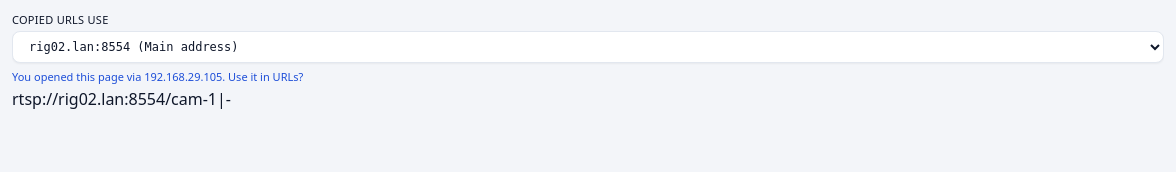
Test: RTSP address picker › rewrites shown/copied URLs to the chosen address and remembers it
The image size is (1176, 172).
Later steps or results of the test are not shown.
Expected: the text with test id "url" reads "rtsp://rig02.lan:8554/cam-1|-", x1=12 y1=88 x2=217 y2=110
Note: the hint offers the address this dashboard was opened with
Click the button "You opened this page via 192.168.29.105. Use it in URLs?" at (158, 77), box x1=12 y1=68 x2=303 y2=85
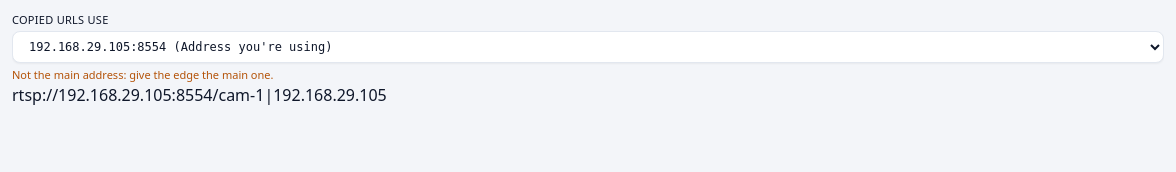
Result: the text with test id "url" reads "rtsp://192.168.29.105:8554/cam-1|192.168.29.105" at x1=12 y1=84 x2=264 y2=106
Result: the text "Not the main address: give the edge the main one." is shown at x1=12 y1=66 x2=274 y2=82
Select "10.8.0.5:8554 (Other network)" in the dropdown named "RTSP address" at (588, 46), box x1=12 y1=30 x2=1164 y2=62
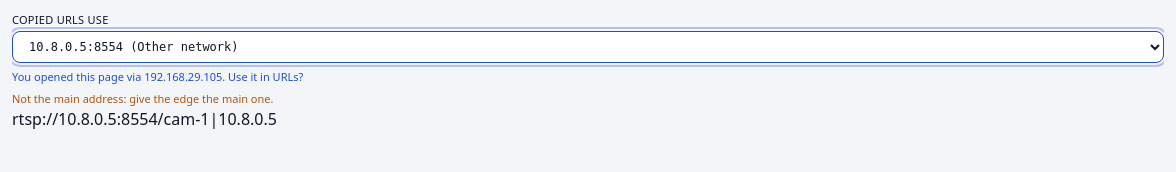
Result: the text with test id "url" reads "rtsp://10.8.0.5:8554/cam-1|10.8.0.5" at x1=12 y1=108 x2=210 y2=130
